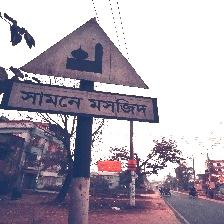Mosque in front: (4, 17, 155, 124)
